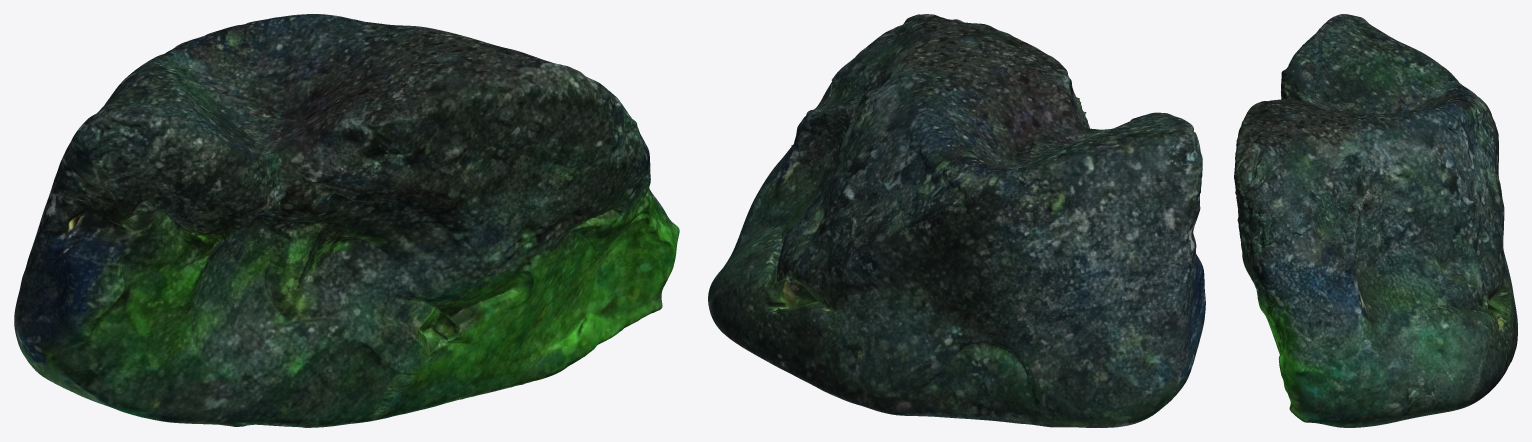
The model's file is Matrixtwin_opal.glb.
3 renders of one model, left to right at view 1: azimuth 30°, elevation 25°; view 2: azimuth 150°, elevation 25°; view 3: azimuth 270°, elevation 25°, orthographic. The views are drawn at different scales.
Size of the model in its own units: 1.9 by 1.11 by 1.1.
1 material, 1 textured.
